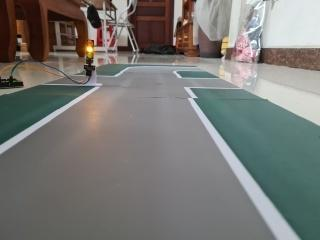yellow: (78, 33, 100, 67)
